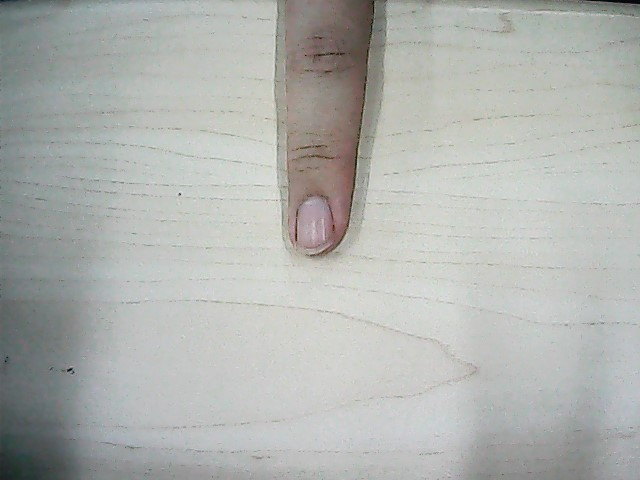nail: (295, 195, 336, 256)
